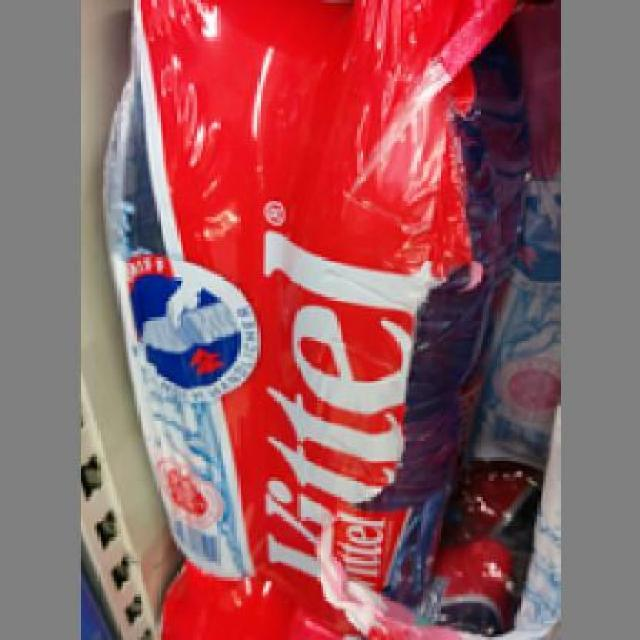Water: (303, 0, 503, 637), (97, 0, 303, 577)
